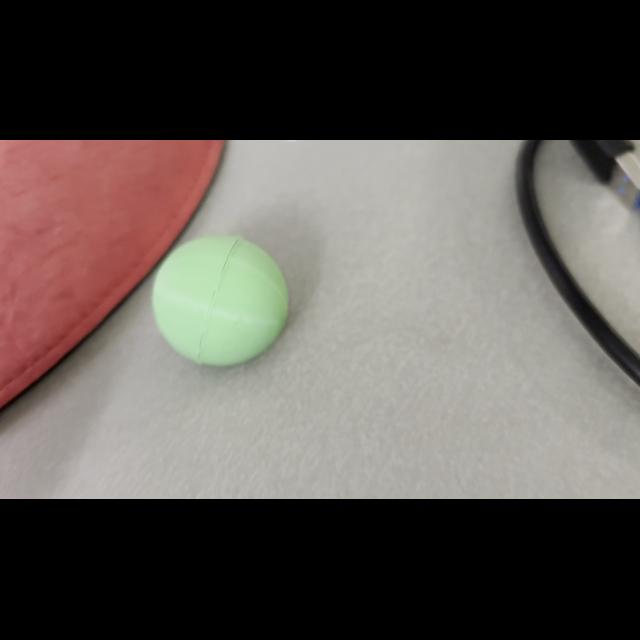objects: (148, 227, 292, 369)
